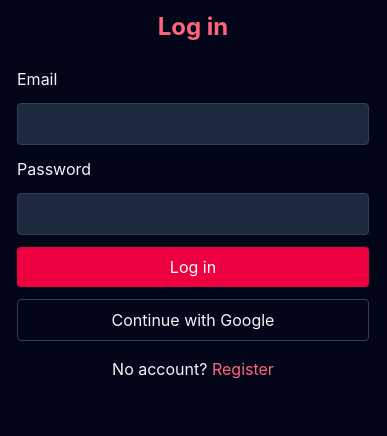
Test: shows an error when Google sign-in fails
Click the button "Continue with Google": click(193, 320) top-left (17, 299), bottom-right (369, 341)
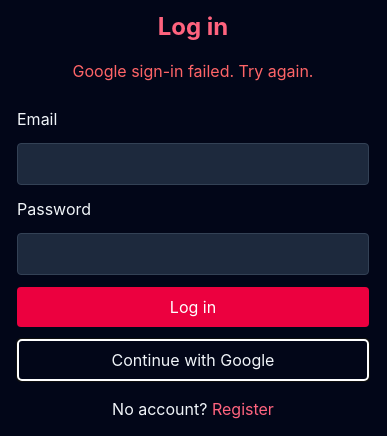
Expected: the text "Google sign-in failed. Try again." is shown, top-left (72, 61), bottom-right (314, 81)
